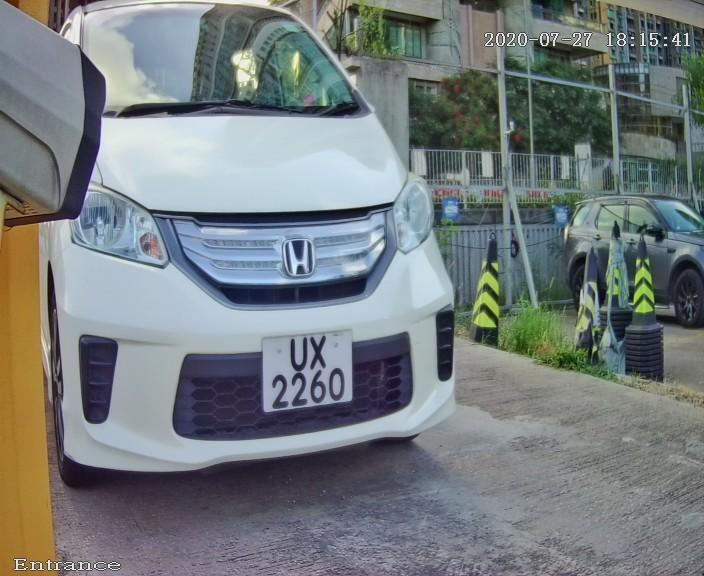privatecar: (7, 19, 525, 502)
